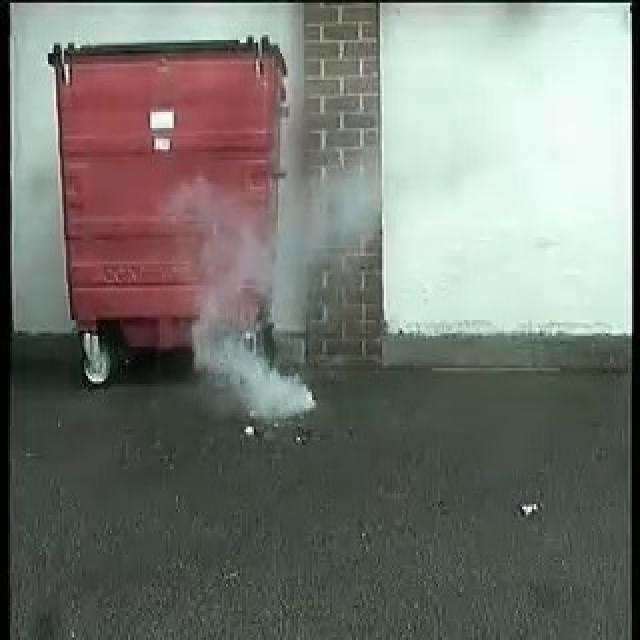smoke: (177, 187, 317, 420)
